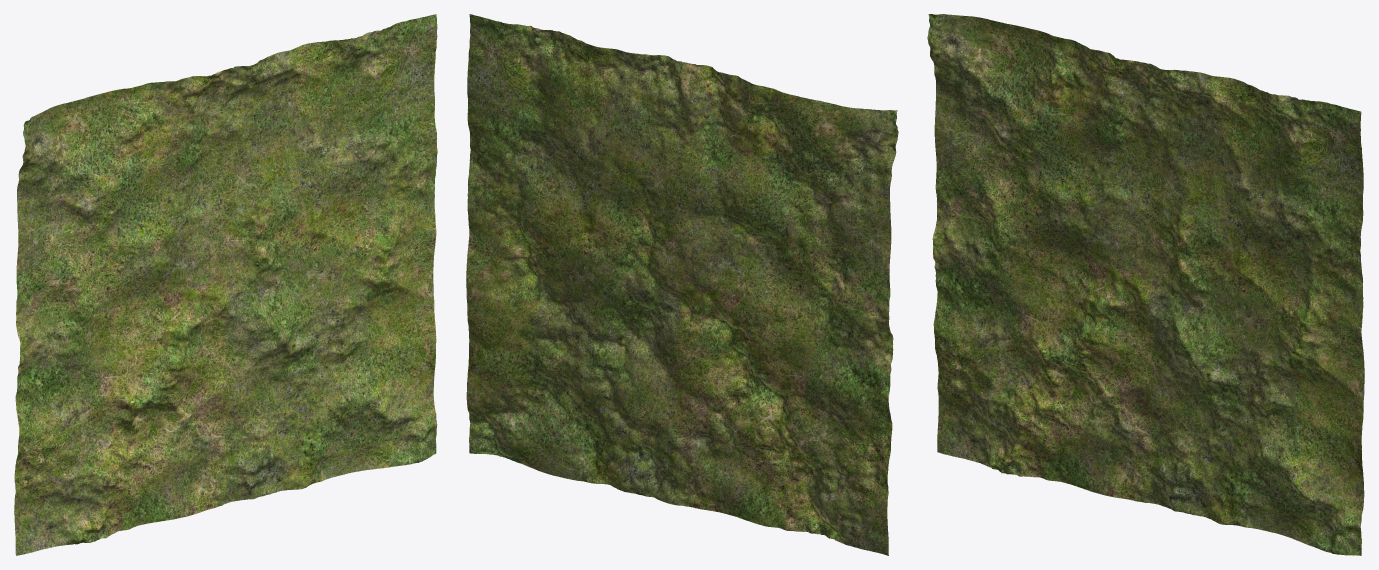
Rendered from terrain.fbx.
3 renders of one model, left to right at view 1: azimuth 30°, elevation 25°; view 2: azimuth 150°, elevation 25°; view 3: azimuth 330°, elevation 25°, orthographic.
Parts seen in each view (by area): view 1: Landscape; view 2: Landscape; view 3: Landscape.
Part boxes in pixels (x1,y1,x2,y2): Landscape: (14, 14, 437, 555); Landscape: (466, 14, 898, 555); Landscape: (927, 14, 1364, 555).
Size of the model in its own units: 9559 by 9559 by 501.
